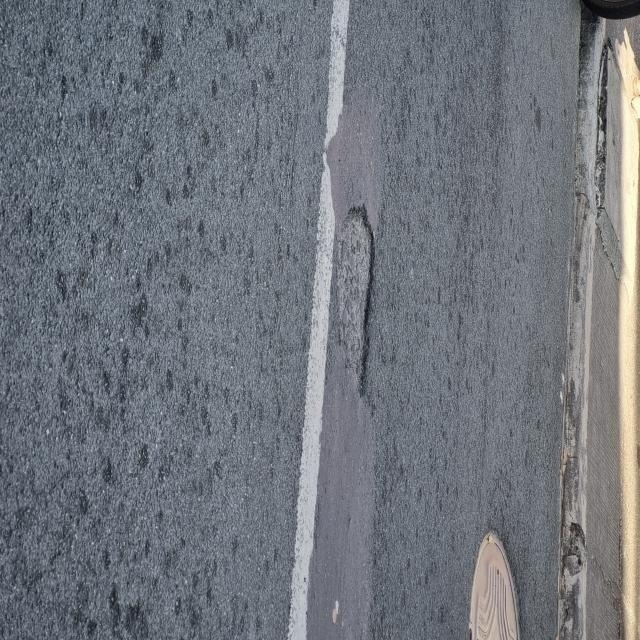pothole: (306, 186, 420, 403)
